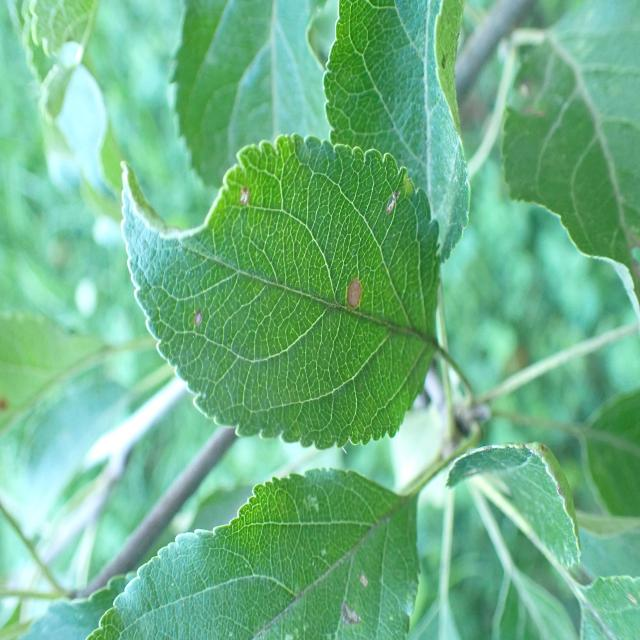frog-eye-leaf-spot: (120, 132, 445, 454), (87, 467, 421, 640)
